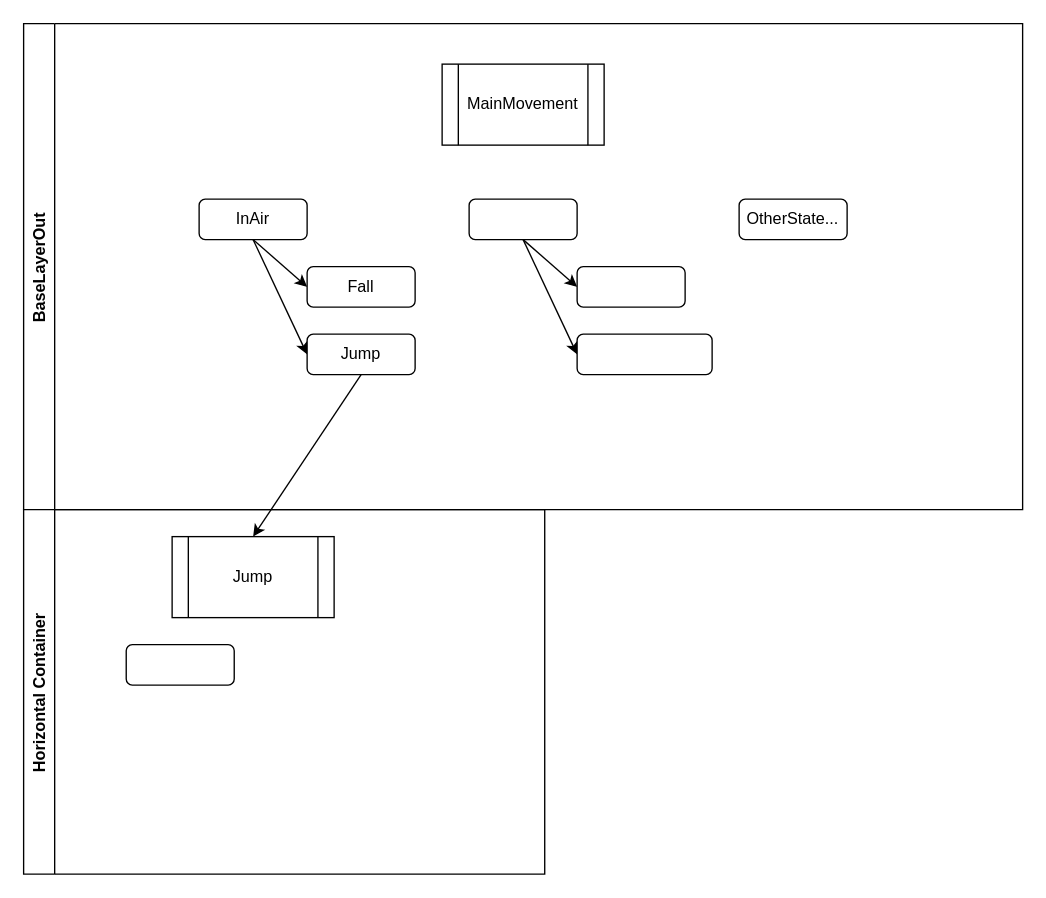
This 1046x898 diagram has some shape labels left out. Here are the shapes that lost their labels. From the top down, the centre of each, then its label:
pixel 522 219: OnGround
pixel 630 286: Land
pixel 644 354: LandMovement
pixel 179 664: Left Foot
